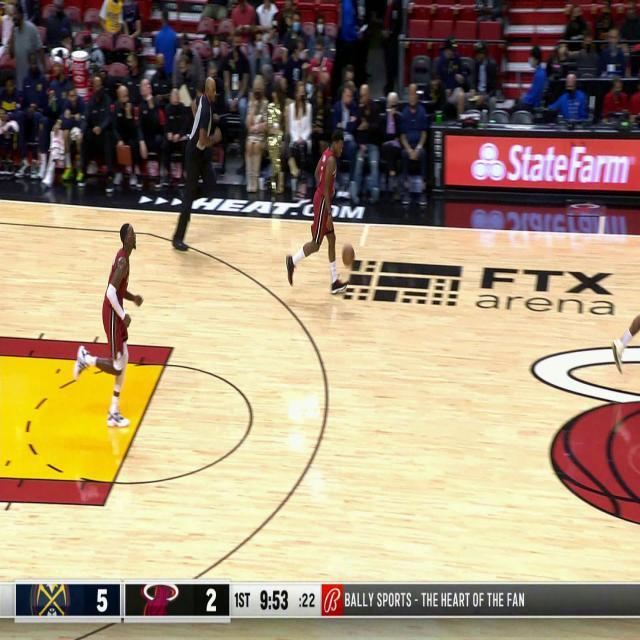rim: (342, 244, 356, 268)
